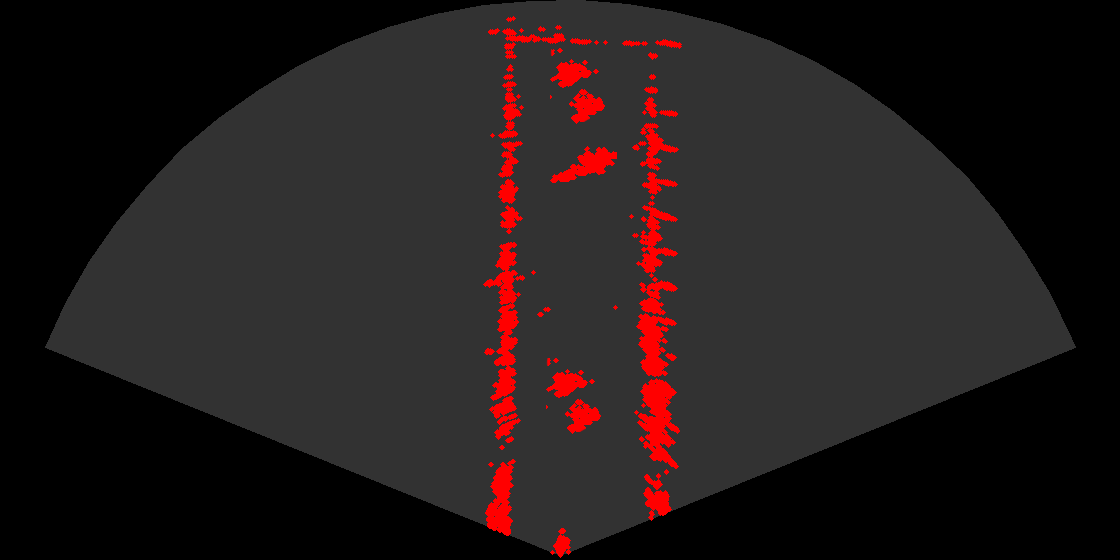cage: (550, 48, 613, 132), (546, 358, 609, 442)
frogman: (549, 140, 617, 187)
